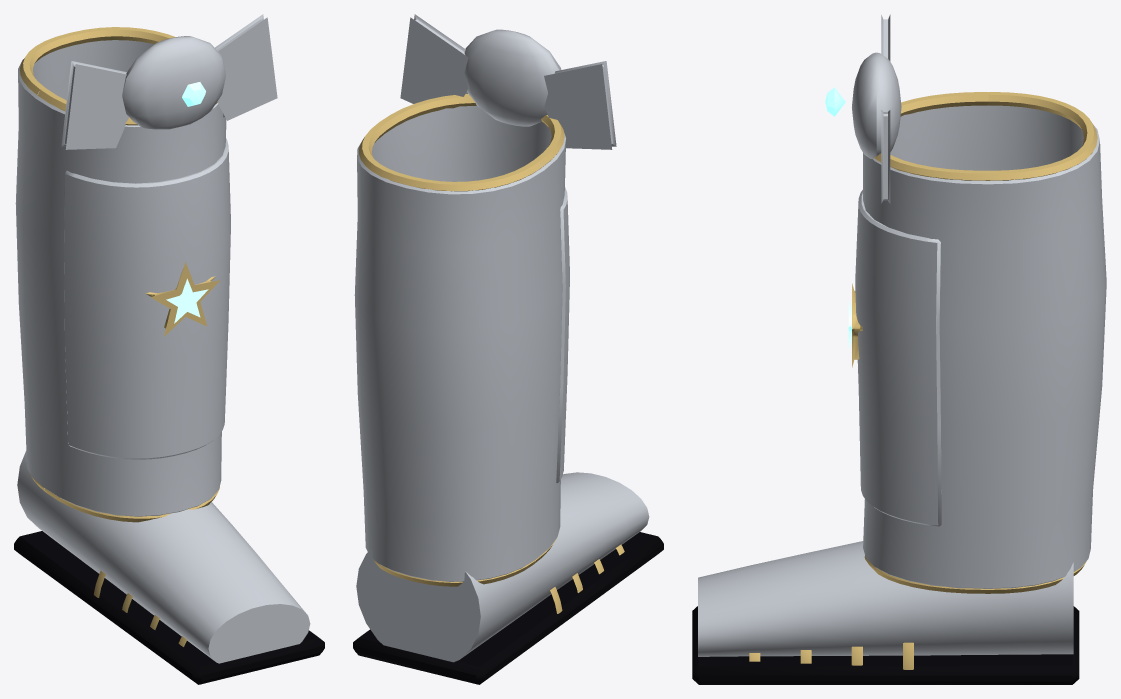
The model's file is esc_last_crown_marshal_boots_R.glb.
3 views of the same model, side by side, from view 1: azimuth 30°, elevation 25°; view 2: azimuth 150°, elevation 25°; view 3: azimuth 270°, elevation 25° (orthographic). The views are drawn at different scales.
Parts seen in each view (by area): view 1: esc_last_crown_marshal_boots, AT_foot_R; view 2: esc_last_crown_marshal_boots, AT_foot_R; view 3: esc_last_crown_marshal_boots, AT_foot_R.
Boxes of the visible parts, x1=… form: esc_last_crown_marshal_boots: x1=15, y1=14, x2=277, y2=522; AT_foot_R: x1=14, y1=451, x2=324, y2=684; esc_last_crown_marshal_boots: x1=354, y1=14, x2=616, y2=586; AT_foot_R: x1=353, y1=472, x2=663, y2=684; esc_last_crown_marshal_boots: x1=825, y1=14, x2=1106, y2=593; AT_foot_R: x1=692, y1=541, x2=1079, y2=684.
Bounding box in the file's own units: 0.2244 × 0.5768 × 0.3641.
